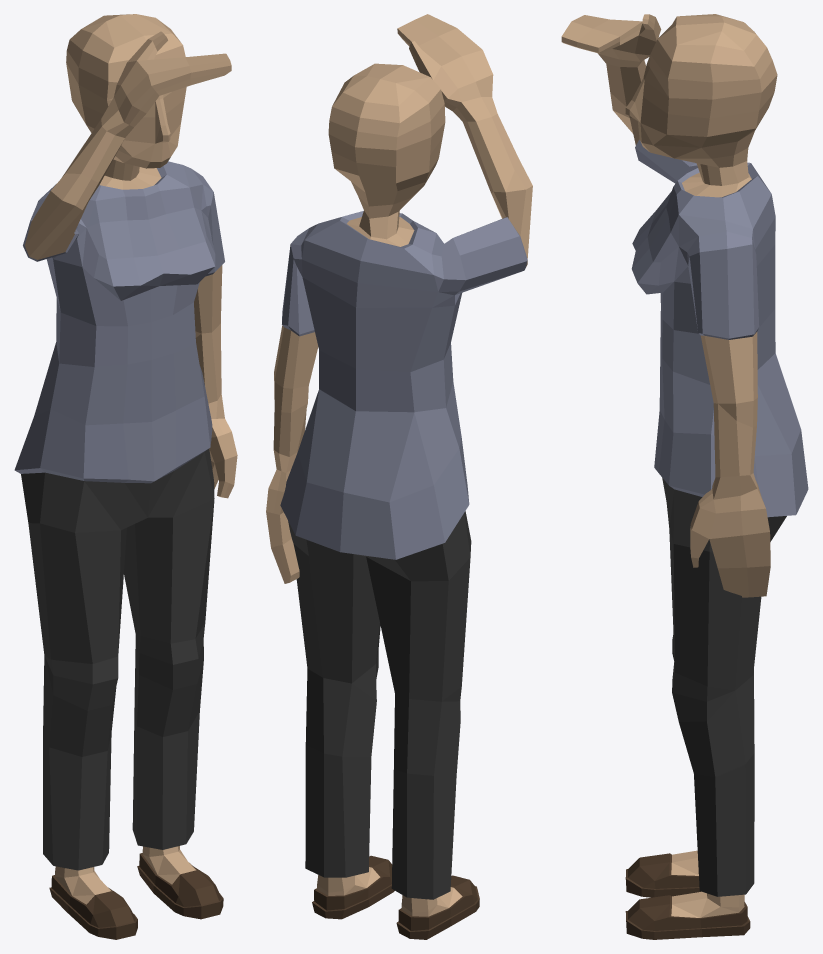
The model's file is crowd_eclair_female_standing_coveringeyes.2e7d1c0f.glb.
3 renders of one model, left to right at view 1: azimuth 30°, elevation 25°; view 2: azimuth 150°, elevation 25°; view 3: azimuth 270°, elevation 25°, orthographic. The views are drawn at different scales.
Visible parts, largest first — view 1: Pants, Shirt, Skin, Shoes; view 2: Shirt, Pants, Skin, Shoes; view 3: Skin, Shirt, Pants, Shoes.
Part boxes in pixels (box(x1,y1,x2,y2)): Pants: box(21, 449, 214, 870); Shirt: box(14, 161, 224, 483); Skin: box(24, 14, 237, 904); Shoes: box(49, 853, 223, 939); Shirt: box(280, 211, 527, 559); Pants: box(288, 511, 471, 899); Skin: box(266, 14, 532, 916); Shoes: box(312, 855, 479, 939); Skin: box(561, 14, 777, 917); Shirt: box(631, 139, 808, 517); Pants: box(662, 477, 786, 896); Shoes: box(625, 853, 750, 939).
Size of the model in its own units: 1.02 by 3.77 by 0.9409.
